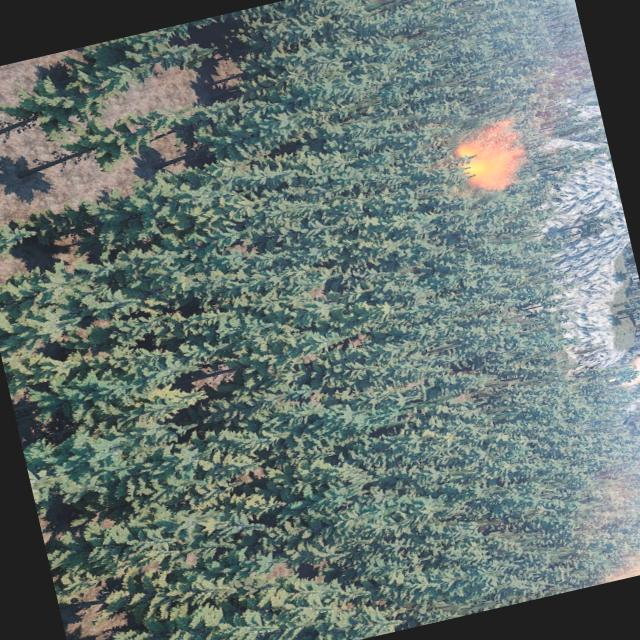fire: (450, 132, 524, 197), (620, 380, 634, 388)
smoke: (466, 55, 609, 177), (602, 545, 640, 582), (626, 346, 640, 383)
